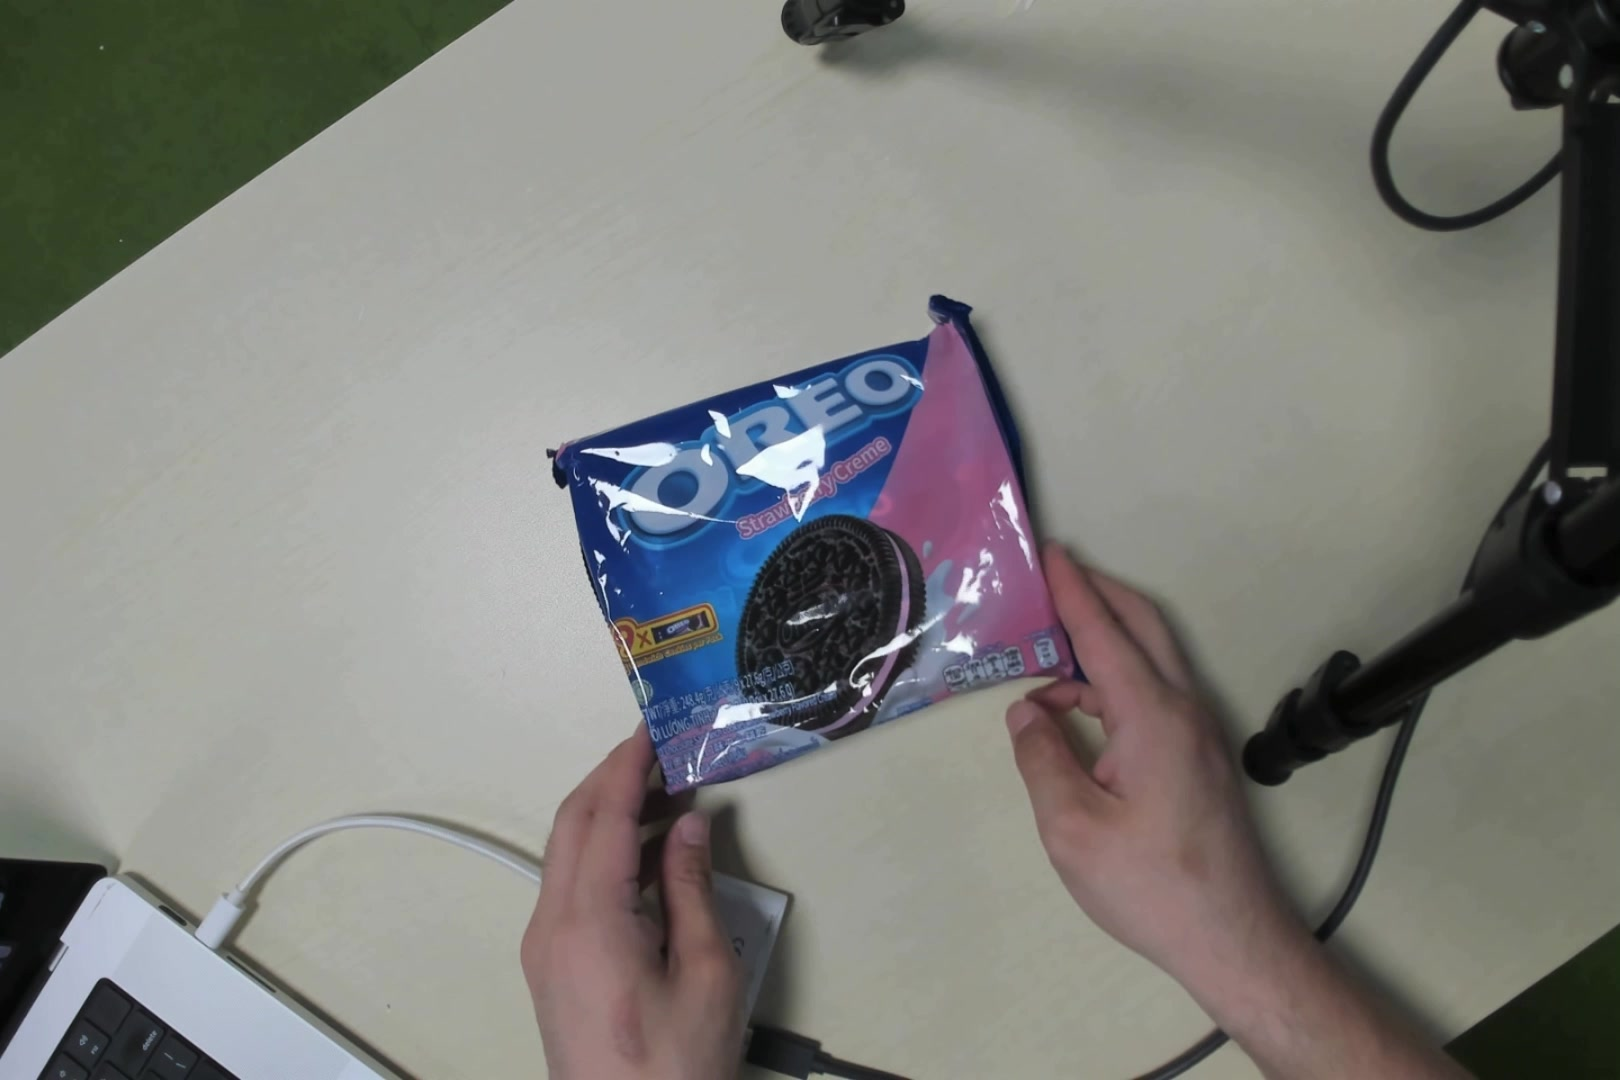SweetsChocolatesOthers_200-299g_Halal_NonHealthy: (599, 363, 1070, 744)
